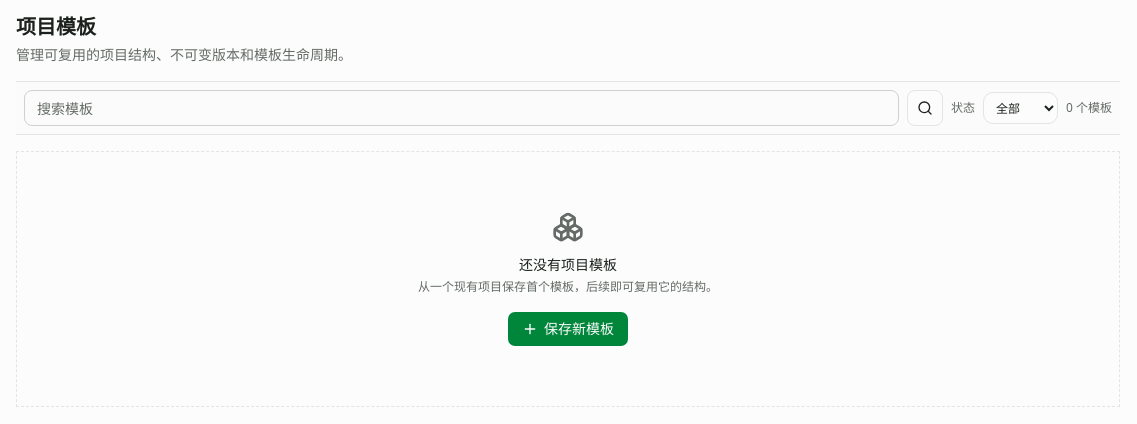
Test case: ProjectTemplateLibraryPage › treats a status-only empty result as no match and clears all filters
Expected: the heading "还没有项目模板" is shown, [519, 255, 617, 275]
Select "已归档" in the dropdown named "模板状态": (1020, 108) [983, 92, 1058, 124]
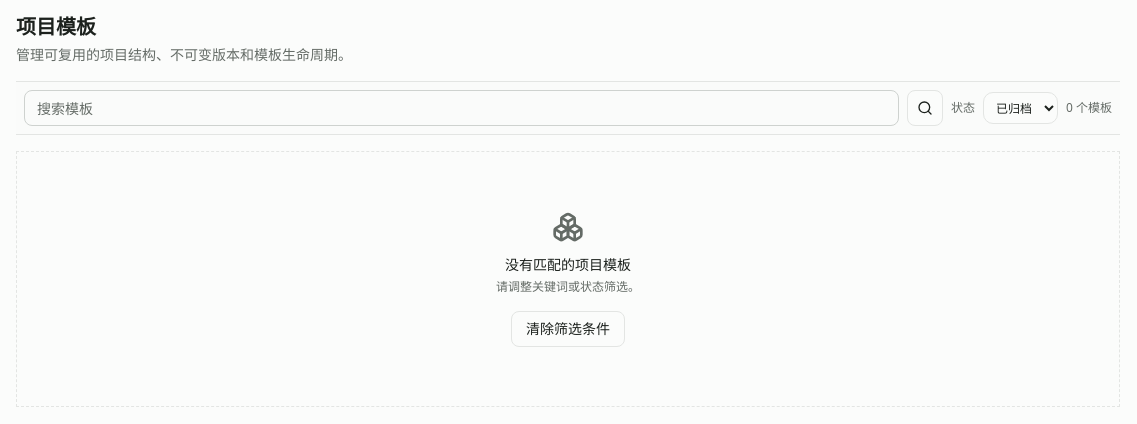
Now the heading "没有匹配的项目模板" is shown, box [505, 255, 631, 275]
Now the button "保存新模板" is gone
In the field labelled "搜索模板": (462, 108) [24, 90, 899, 126], type "不存在"
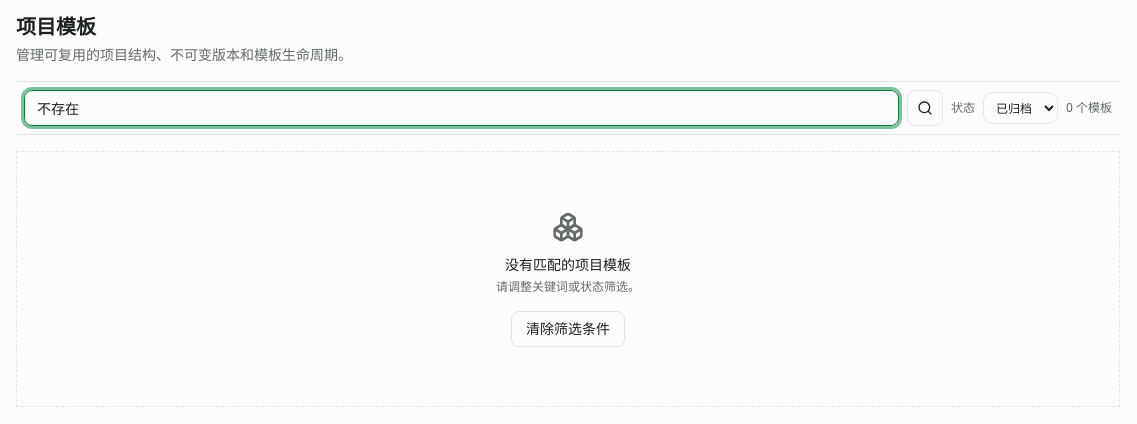
Click the button named "搜索": (925, 108) [907, 90, 943, 126]
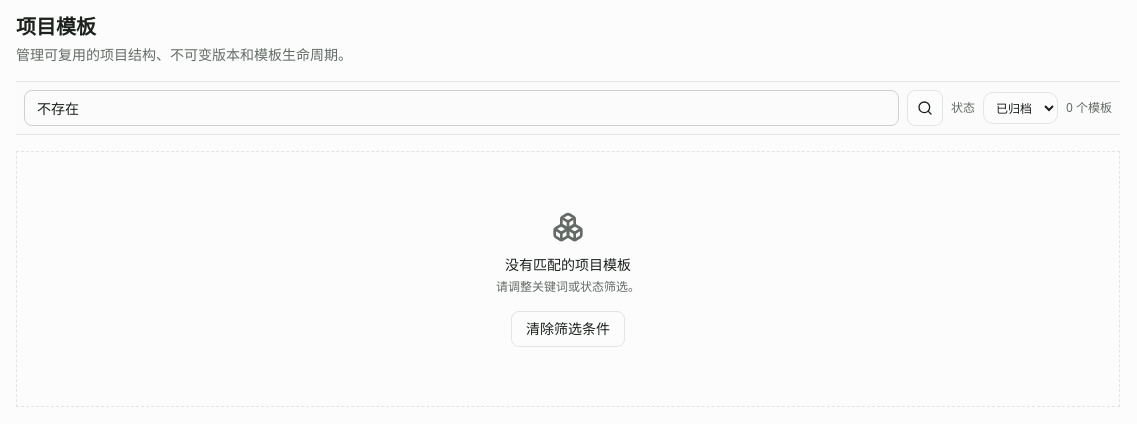
Click the button "清除筛选条件": (568, 329) [511, 311, 625, 347]
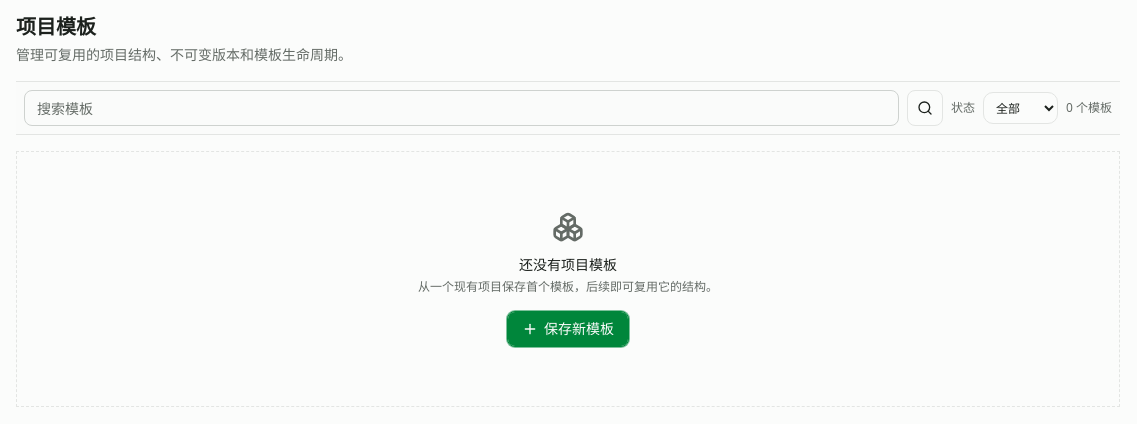
Now the heading "还没有项目模板" is shown, box [519, 255, 617, 275]
Now the dropdown named "模板状态" shows "全部", box [983, 92, 1058, 124]
Now the field labelled "搜索模板" is empty, box [24, 90, 899, 126]
